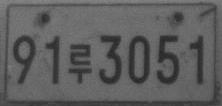0: (127, 35, 150, 83)
1: (42, 34, 67, 84), (186, 34, 210, 84)
3: (97, 34, 122, 84)
5: (155, 35, 180, 84)
9: (11, 34, 36, 84)
루: (67, 43, 91, 84)
